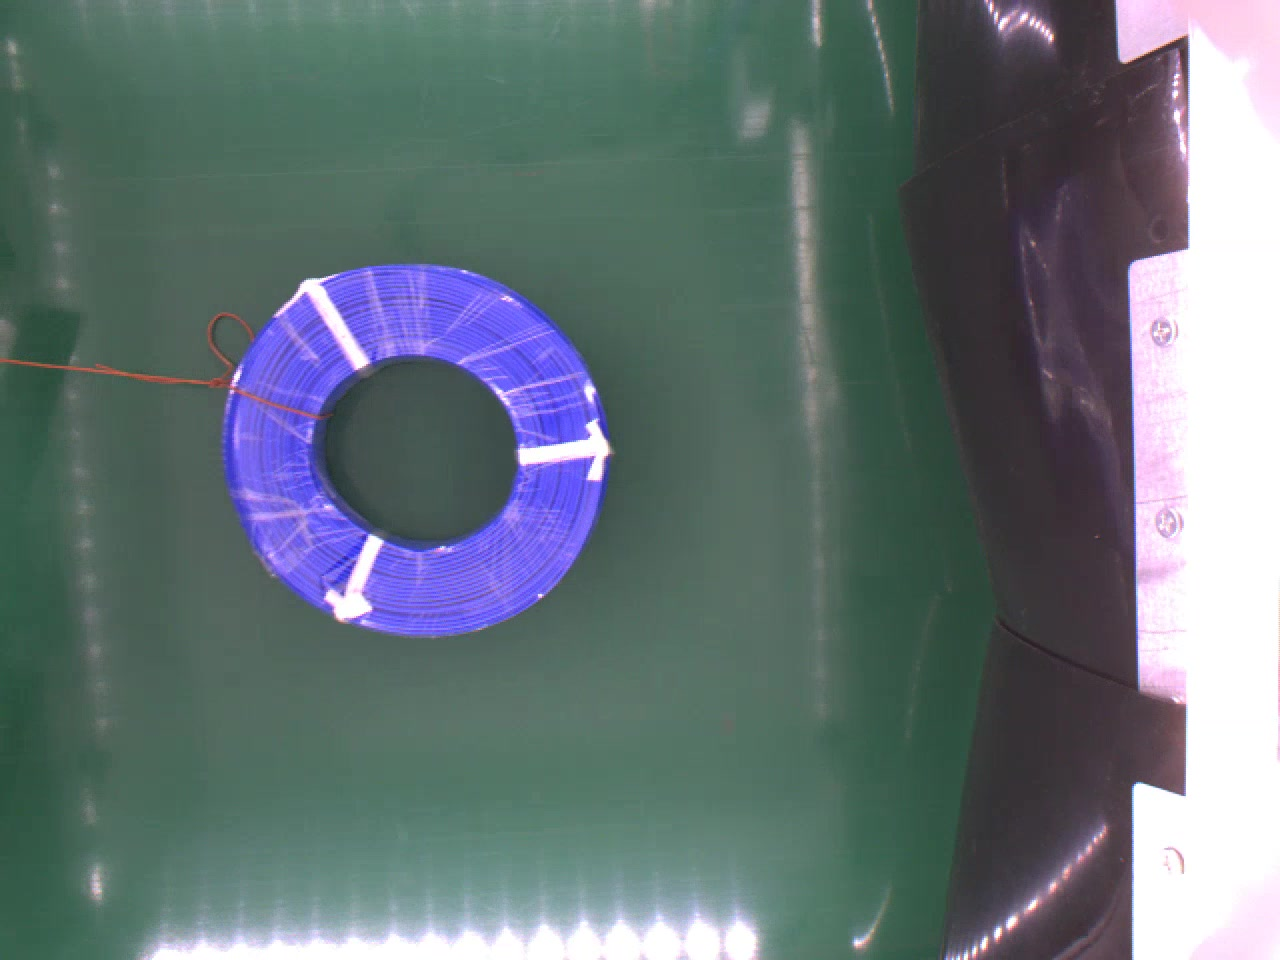blue: (219, 256, 614, 637)
